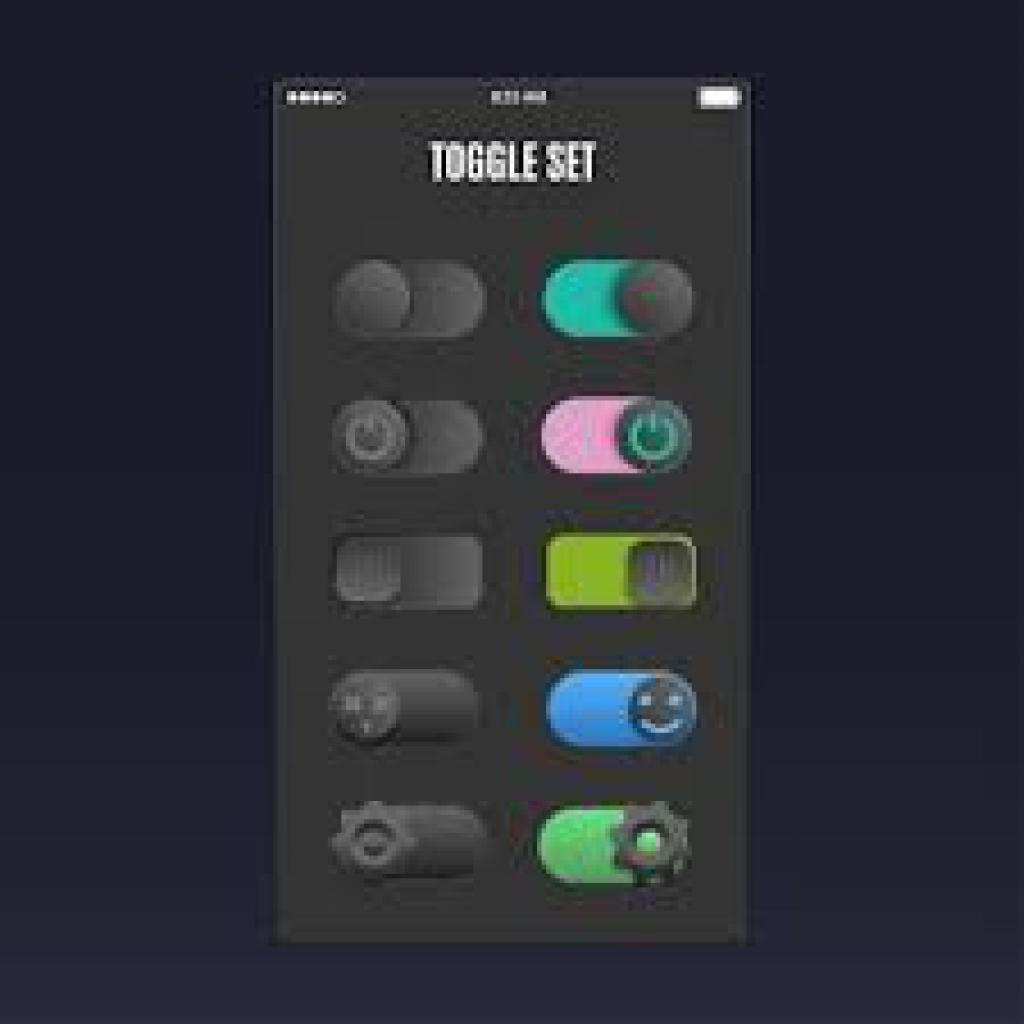switch: (535, 782, 704, 894), (542, 509, 706, 623), (529, 382, 699, 488), (542, 239, 708, 345), (326, 795, 499, 895), (548, 656, 710, 762), (335, 251, 497, 343), (326, 665, 486, 756), (334, 391, 493, 481), (326, 523, 487, 610)
